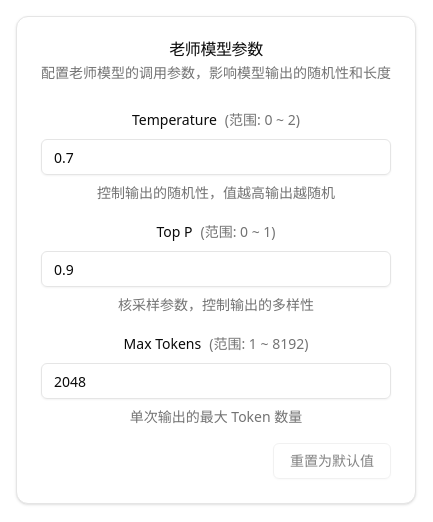
Test: TeacherModelParamsForm › 输入验证 › 应该在 top_p 超出范围时显示错误
Replace the text in the number field with test id "top-p-input" with "1.5" at (216, 269), box [41,251,391,287]
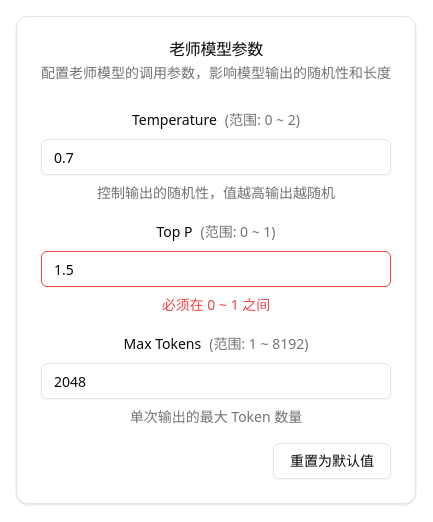
Now the text "必须在 0 ~ 1 之间" is shown, box [162,295,270,314]
